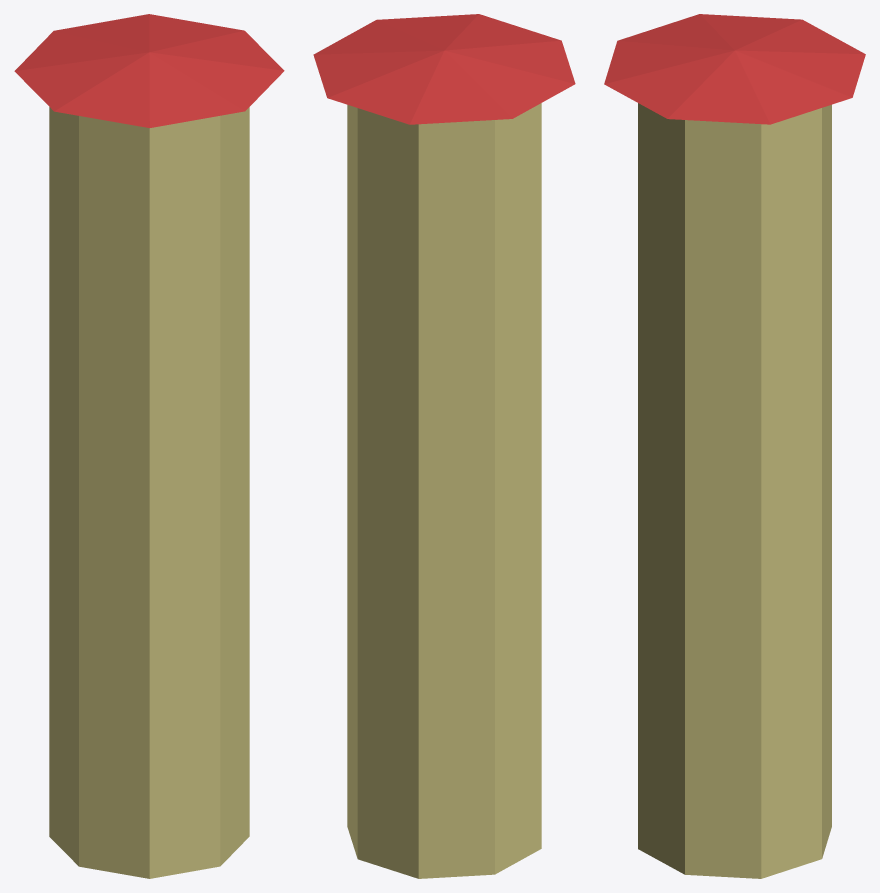
3 renders of one model, left to right at view 1: azimuth 30°, elevation 25°; view 2: azimuth 150°, elevation 25°; view 3: azimuth 270°, elevation 25°, orthographic.
Bounding box in the file's own units: 12.07 × 12.07 × 40.04.
